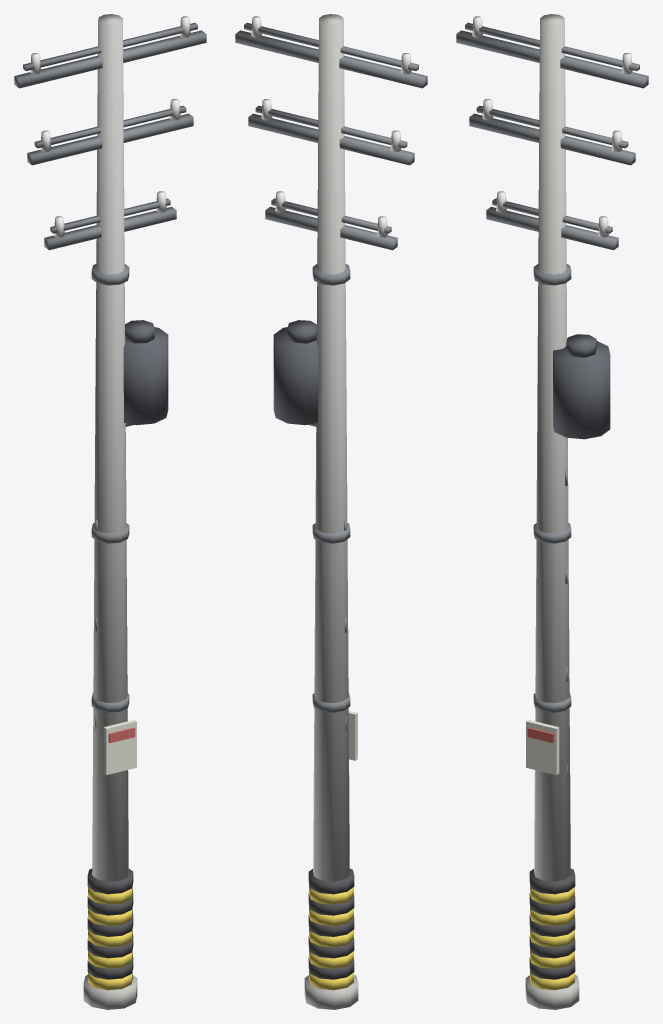
File: pole-utility-a.glb
The picture shows the model from 3 angles, left to right: view 1: azimuth 30°, elevation 25°; view 2: azimuth 150°, elevation 25°; view 3: azimuth 330°, elevation 25°; orthographic projection.
Parts seen in each view (by area): view 1: pole-shaft, pole-arms, pole-transformer, pole-sleeve-k, pole-sleeve-y, pole-ad, pole-bands, pole-insulators; view 2: pole-shaft, pole-arms, pole-transformer, pole-sleeve-k, pole-sleeve-y, pole-bands, pole-insulators, pole-ad; view 3: pole-shaft, pole-arms, pole-transformer, pole-sleeve-k, pole-sleeve-y, pole-ad, pole-bands, pole-insulators.
Part boxes in pixels (x1,y1,x2,y2): pole-shaft: (83,14,137,1009); pole-arms: (14,22,206,250); pole-transformer: (123,320,168,425); pole-sleeve-k: (87,868,133,979); pole-sleeve-y: (88,885,132,990); pole-ad: (103,719,136,775); pole-bands: (91,264,129,712); pole-insulators: (30,16,190,237); pole-shaft: (304,14,358,1009); pole-arms: (235,22,427,250); pole-transformer: (273,320,318,425); pole-sleeve-k: (308,868,354,979); pole-sleeve-y: (309,885,353,990); pole-bands: (312,264,350,712); pole-insulators: (251,16,411,237); pole-ad: (348,710,357,760); pole-shaft: (525,14,579,1009); pole-arms: (456,22,648,250); pole-transformer: (553,334,610,439); pole-sleeve-k: (529,868,575,979); pole-sleeve-y: (530,885,574,990); pole-ad: (526,719,559,775); pole-bands: (533,264,571,712); pole-insulators: (472,16,632,237).
Bounding box in the file's own units: 2.2 × 11 × 0.6.
